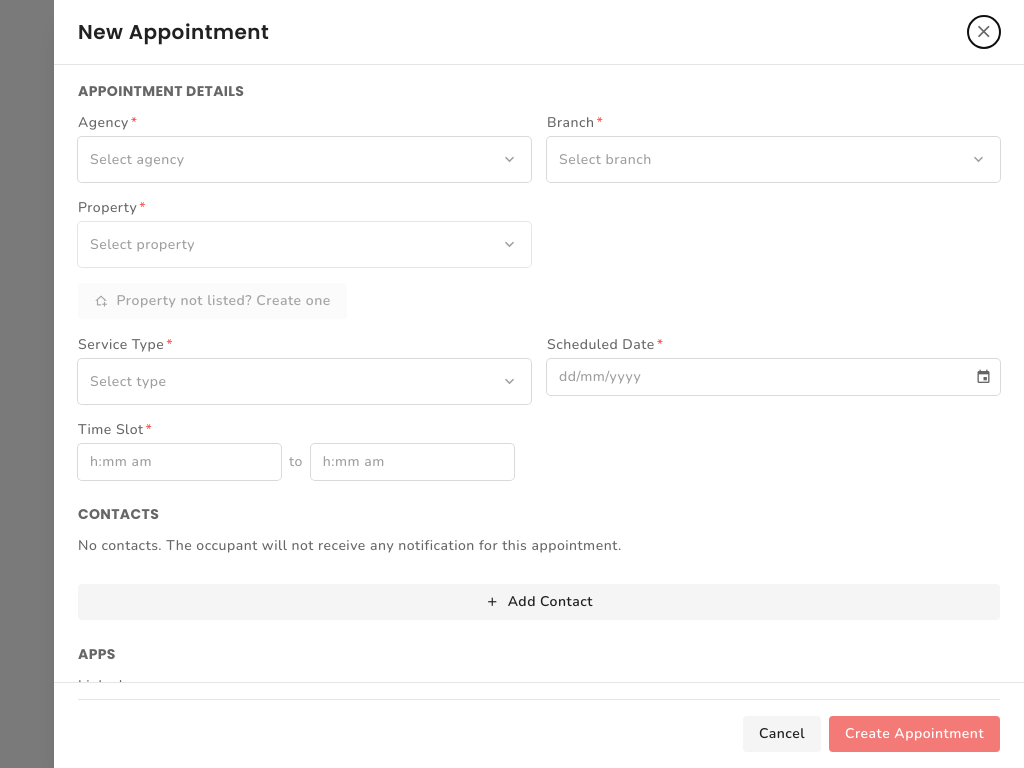
AppointmentFormDrawer › create mode starts with no contact card and reveals the search field after Add Contact
Expected: the text "Search existing contact" is not shown
Expected: the text "No contacts." is shown, 78,536 -> 622,555
Click the button "Add Contact": coordinates (539, 602) 78,584 -> 1000,620
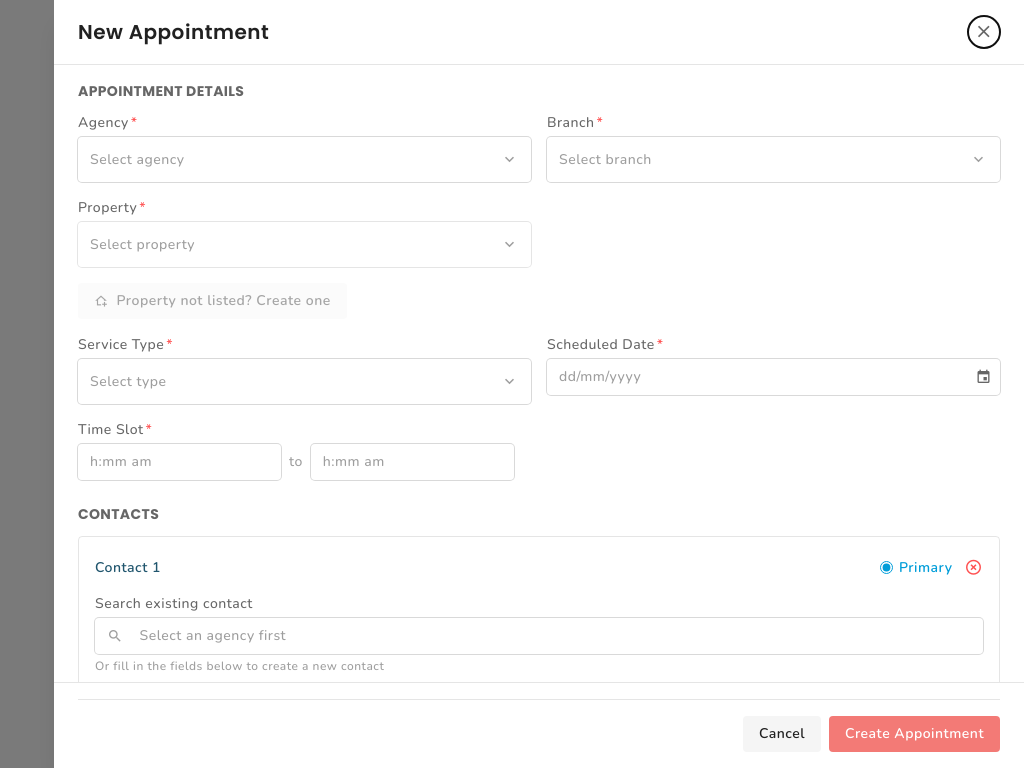
Expected: the text "Search existing contact" is shown, 95,594 -> 253,613
Expected: the text "Or fill in the fields below to create a new contact" is shown, 95,658 -> 384,674
